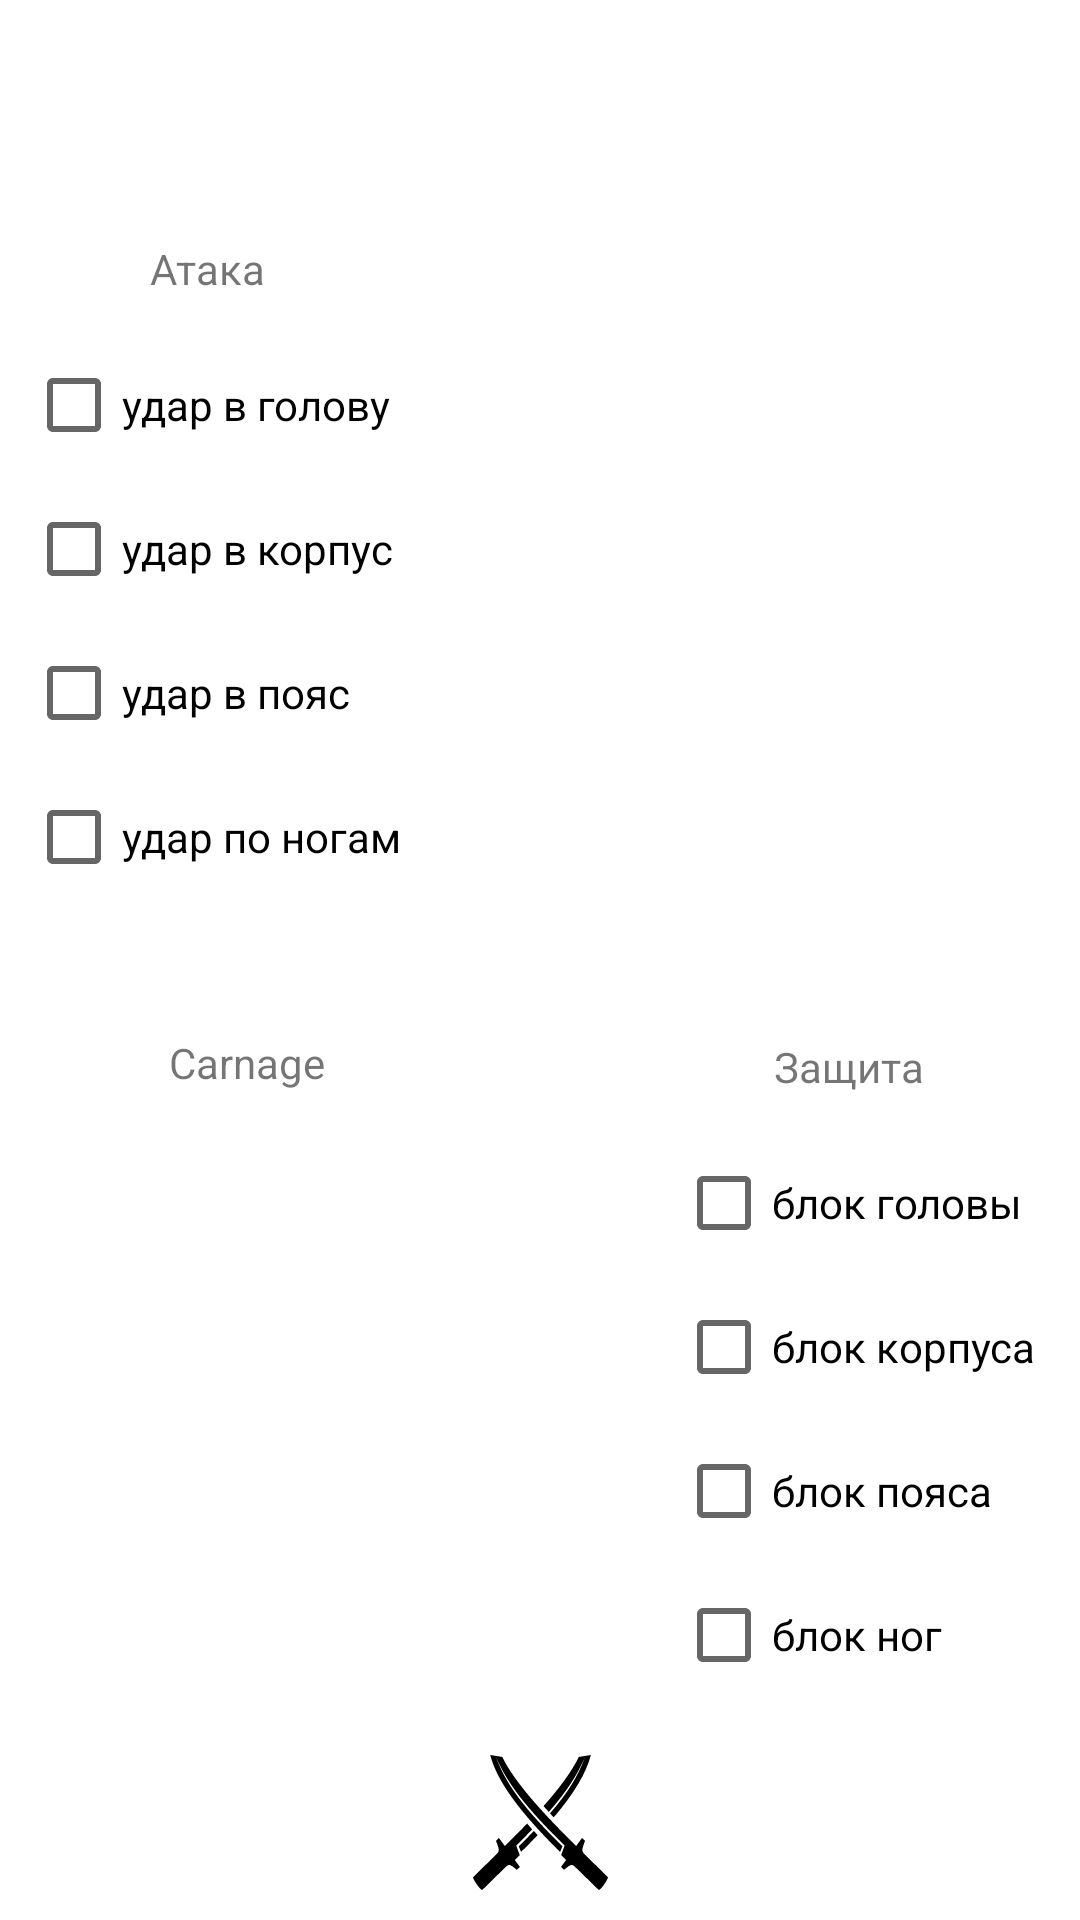

Screen size 1080 x 1920. Icon name, then its box in pixels as BBox(x1, y1, x2, y2):
swords: BBox(473, 1755, 608, 1890)
